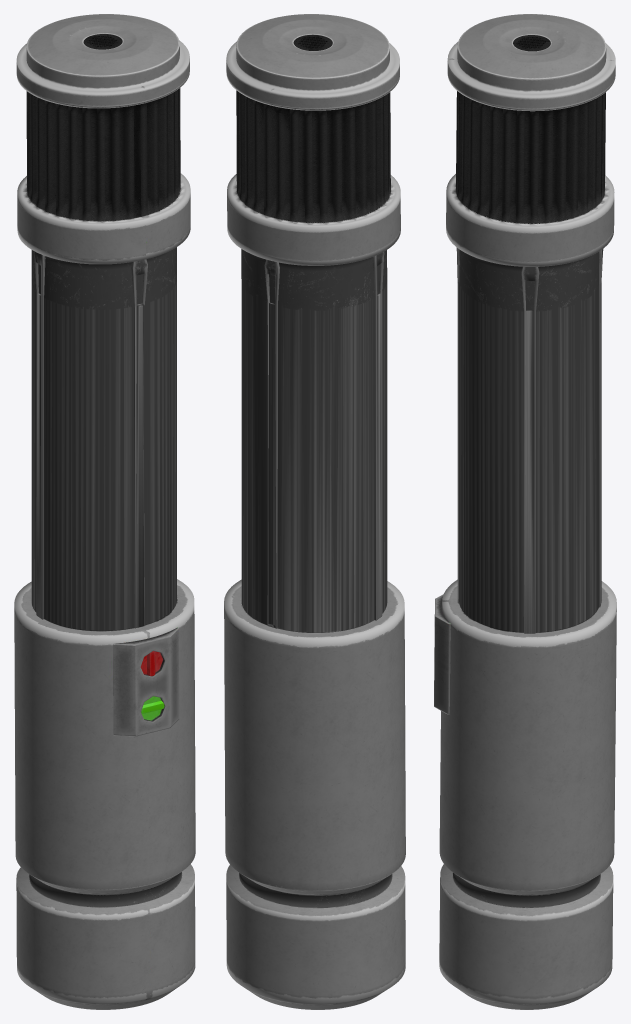
The model's file is Device_5.fbx.
The picture shows the model from 3 angles, left to right: view 1: azimuth 30°, elevation 25°; view 2: azimuth 150°, elevation 25°; view 3: azimuth 270°, elevation 25°; orthographic projection.
Parts seen in each view (by area): view 1: defaultMaterial.005; view 2: defaultMaterial.005; view 3: defaultMaterial.005.
Part boxes in pixels (left/top/right/bottom): defaultMaterial.005: left=14, top=14, right=195, bottom=1009; defaultMaterial.005: left=224, top=14, right=405, bottom=1009; defaultMaterial.005: left=434, top=14, right=616, bottom=1009.
Bounding box in the file's own units: 53.1 × 303 × 53.43.
Materials: 1 (1 with a texture image).
